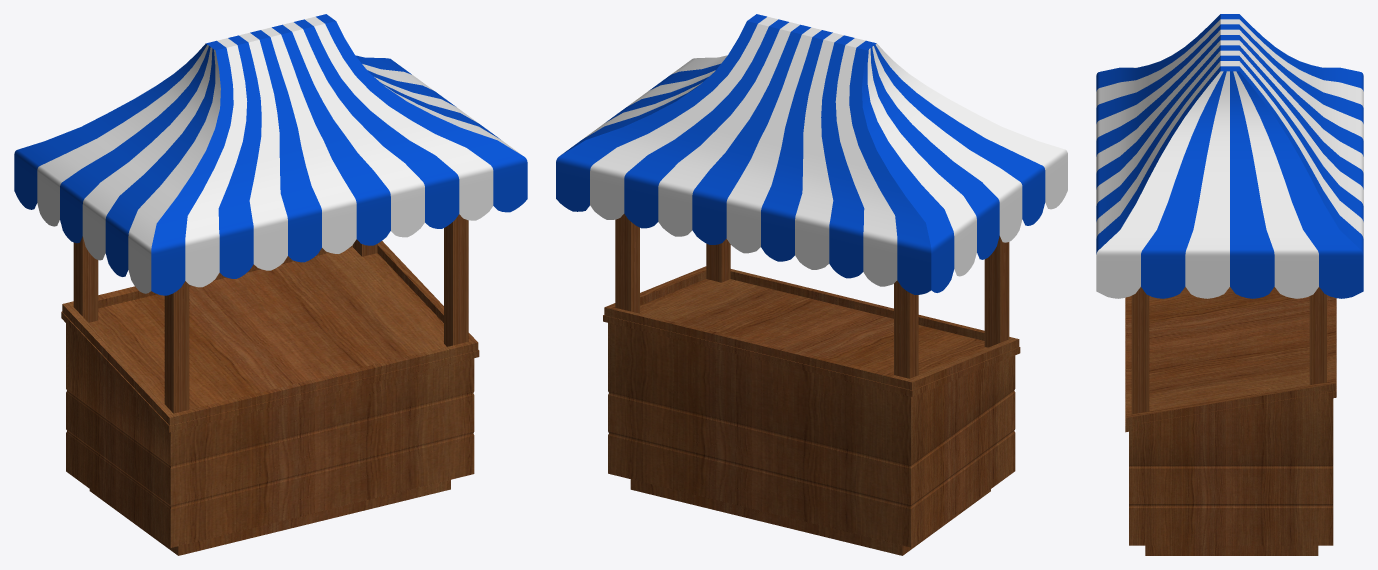
File: stall.fbx
3 renders of one model, left to right at view 1: azimuth 30°, elevation 25°; view 2: azimuth 150°, elevation 25°; view 3: azimuth 270°, elevation 25°, orthographic. The views are drawn at different scales.
Parts seen in each view (by area): view 1: Box001, Box006, Box004, Box005, Box002; view 2: Box001, Box006, Box004, Box003, Box002, Box005; view 3: Box006, Box001, Box005, Box003.
Part boxes in pixels (x1,y1,x2,y2): Box001: (61,241,479,555); Box006: (14,14,527,295); Box004: (164,281,189,413); Box005: (444,214,468,346); Box002: (73,236,98,322); Box001: (603,266,1020,555); Box006: (556,14,1067,294); Box004: (984,236,1009,347); Box003: (615,214,639,313); Box002: (894,280,918,378); Box005: (706,239,730,282); Box006: (1096,14,1363,298); Box001: (1125,287,1336,555); Box005: (1131,287,1149,414); Box003: (1309,287,1326,384).
Size of the model in its own units: 95.55 by 60.16 by 111.
Materials: 3 (1 with a texture image).
